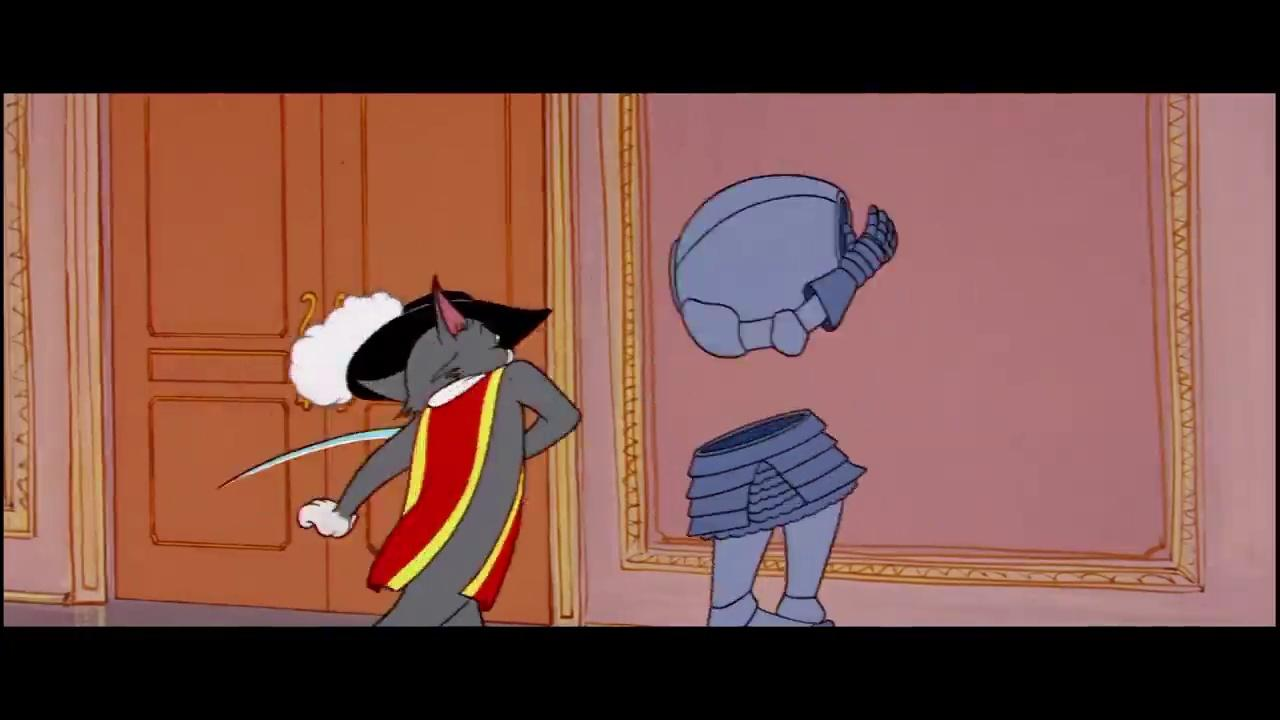Tom: (297, 272, 584, 626)
